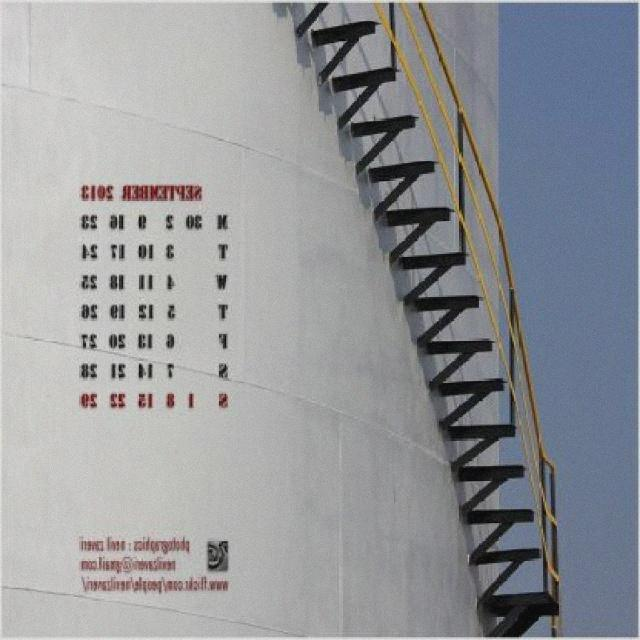stair: (310, 19, 558, 638)
